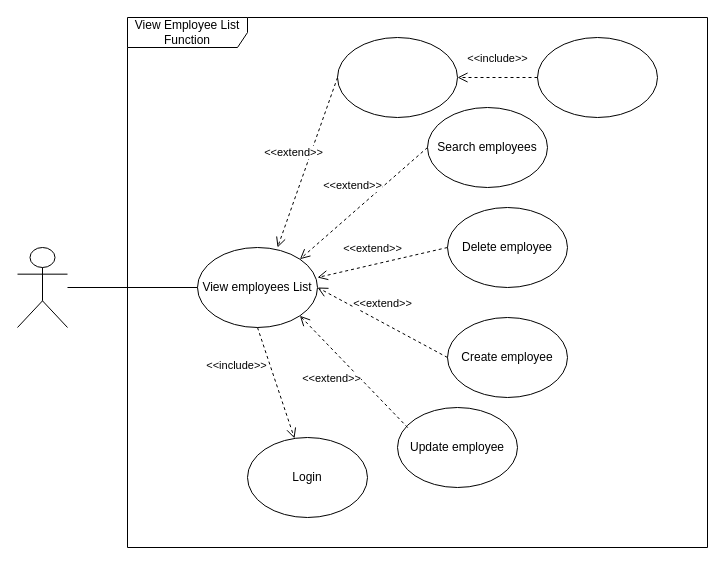
Image size: 725x565. Some labels were removed from this diagram. Here are the shapes that lost their labels. From the top down, the box of each, then its label:
(336, 36, 458, 118): See employee detail
(536, 36, 658, 118): View employee detail content
(16, 246, 68, 328): Admin
